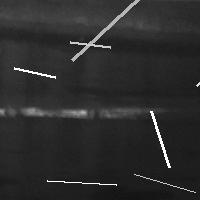scratches: (67, 0, 145, 65), (1, 104, 150, 121), (129, 169, 200, 197), (146, 106, 174, 172), (42, 175, 121, 189), (9, 63, 60, 82), (65, 37, 115, 52), (192, 46, 200, 90)
